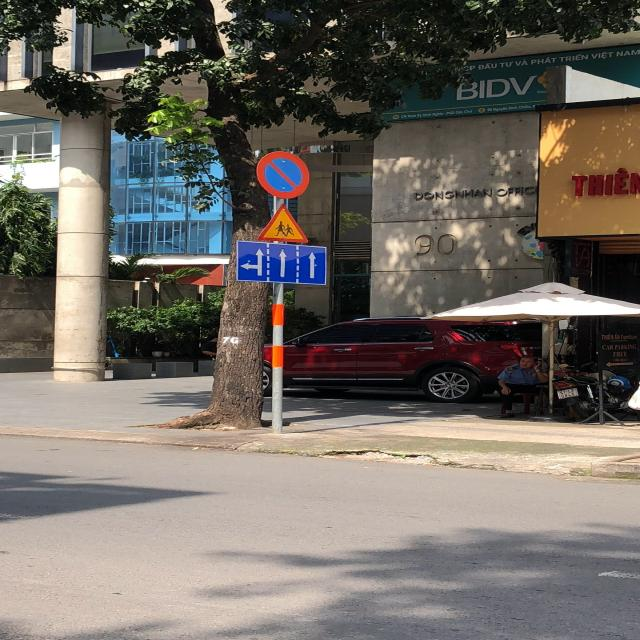Bien bao cam do xe: (254, 149, 316, 202)
Bien bao tre em: (253, 201, 312, 242)
